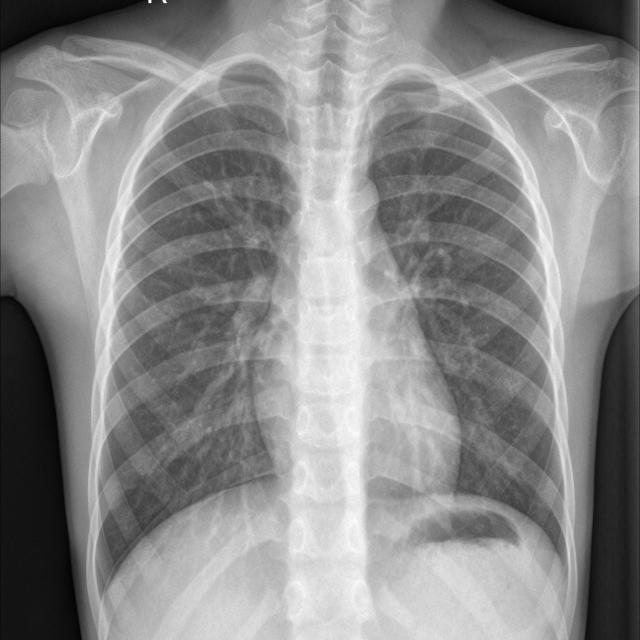no-pneumonia: (96, 63, 298, 592), (370, 79, 567, 555)
